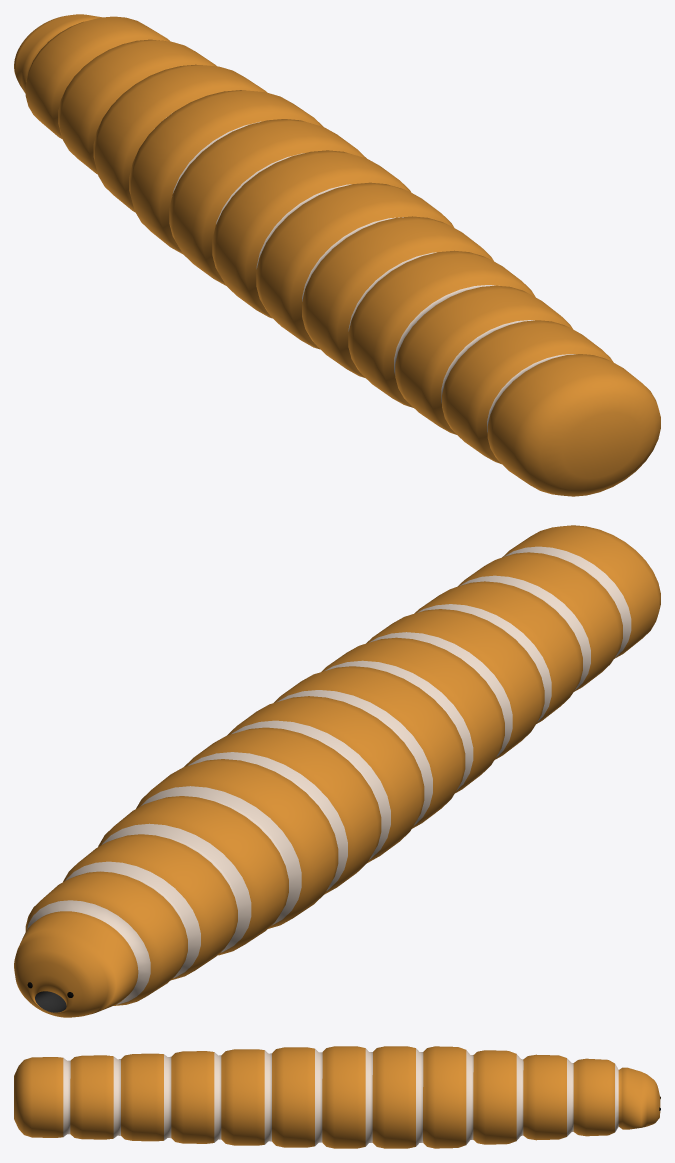
File: Larva.fbx
The picture shows the model from 3 angles, top to bottom: view 1: azimuth 30°, elevation 25°; view 2: azimuth 150°, elevation 25°; view 3: azimuth 270°, elevation 25°; orthographic projection. The views are drawn at different scales.
Visible parts, largest first — view 1: Body; view 2: Body; view 3: Body.
Part boxes in pixels (x1,y1,x2,y2): Body: [14, 14, 660, 496]; Body: [14, 525, 660, 1017]; Body: [14, 1046, 660, 1148].
Bounding box in the file's own units: 217 × 167 × 1123.
